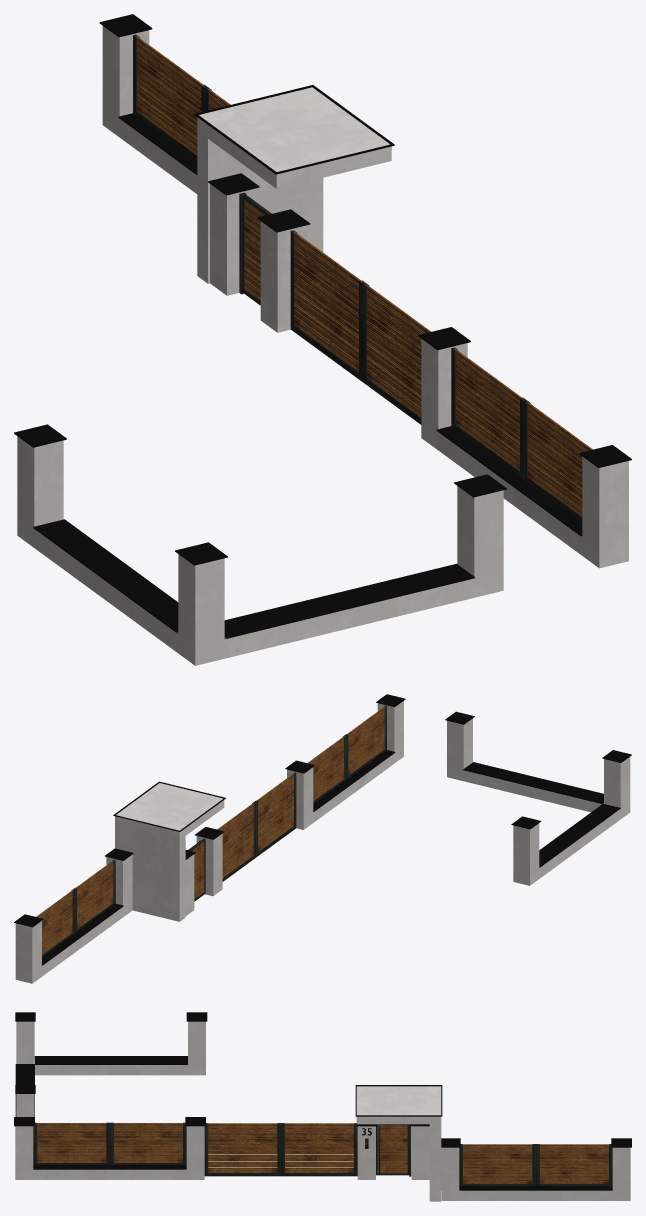
Rendered from fence-modern.glb.
3 views of the same model, one above another, from view 1: azimuth 30°, elevation 25°; view 2: azimuth 150°, elevation 25°; view 3: azimuth 270°, elevation 25° (orthographic). The views are drawn at different scales.
Parts seen in each view (by area): view 1: L Corner_Plaster_0, Door_Wood_0, 35_Black_0, Door_Metal_0; view 2: L Corner_Plaster_0, Door_Wood_0, 35_Black_0, Door_Metal_0; view 3: Door_Wood_0, L Corner_Plaster_0, 35_Black_0, Door_Metal_0.
Part boxes in pixels (x1,y1,x2,y2): L Corner_Plaster_0: (17,26,628,665); Door_Wood_0: (135,36,592,516); 35_Black_0: (14,14,631,638); Door_Metal_0: (133,34,582,521); L Corner_Plaster_0: (15,701,630,983); Door_Wood_0: (36,706,384,954); 35_Black_0: (14,694,631,965); Door_Metal_0: (42,705,386,957); Door_Wood_0: (35,1123,610,1183); L Corner_Plaster_0: (15,1021,630,1201); 35_Black_0: (14,1012,631,1190); Door_Metal_0: (33,1122,612,1186).
Bounding box in the file's own units: 11.97 × 3.56 × 23.16.
Materials: 8 (4 with a texture image).
